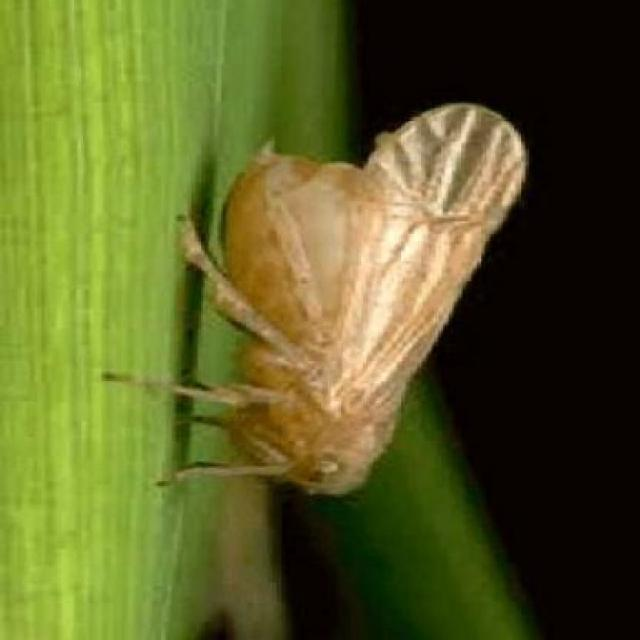brown-planthopper: (194, 80, 534, 500)
